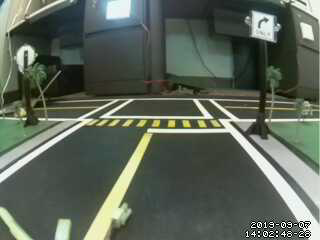Right_only_sign: (252, 10, 277, 46)
